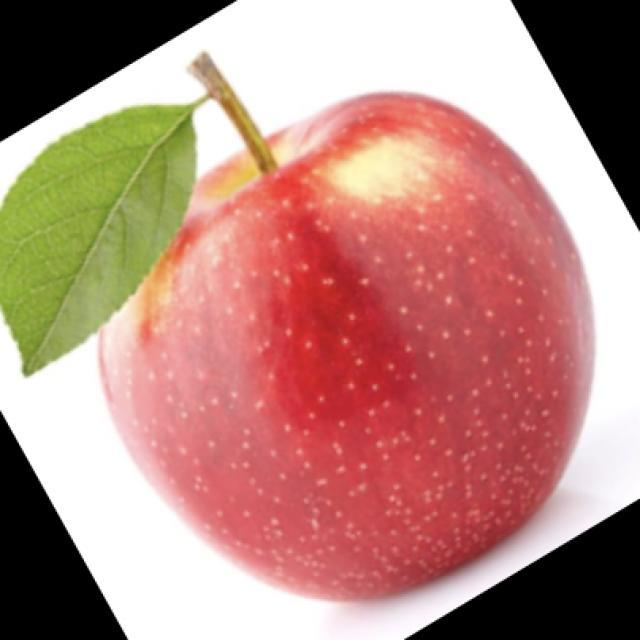Fresh Apple: (120, 147, 588, 578)
